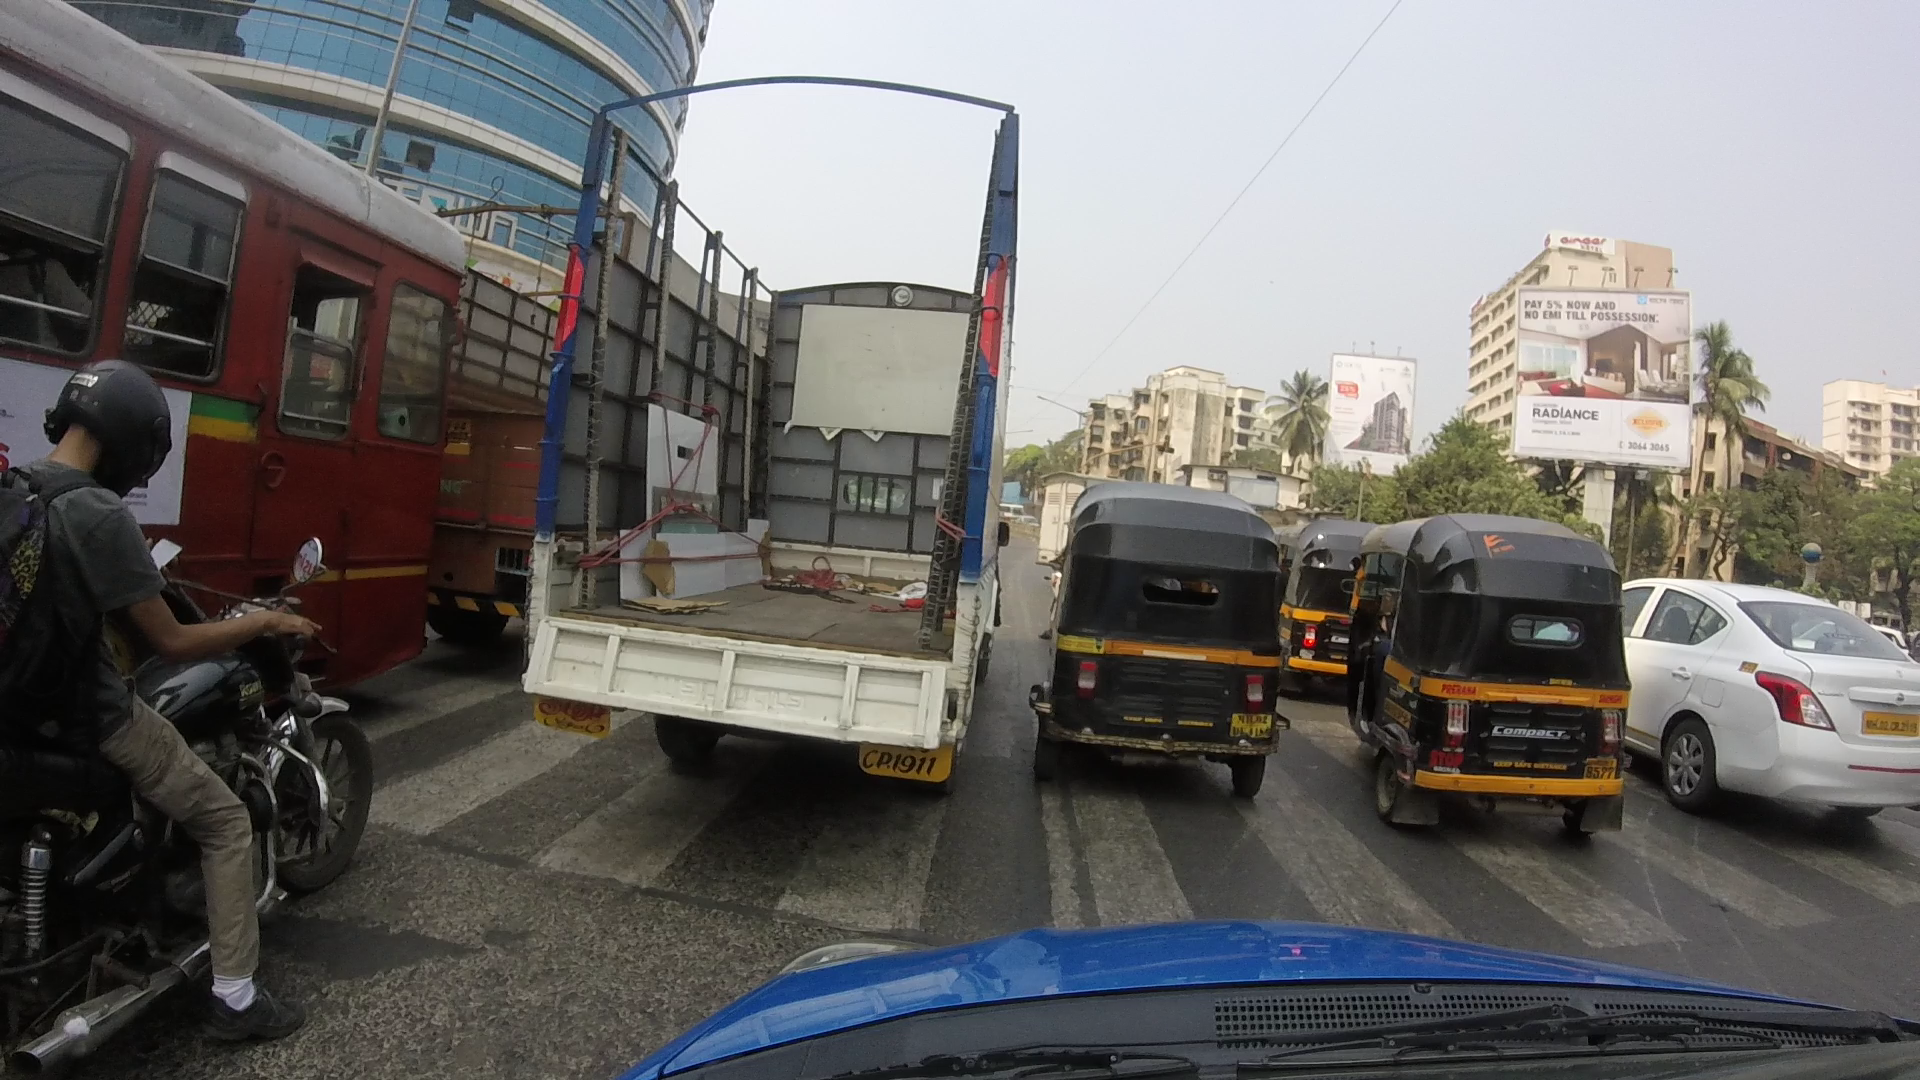bike/scooter: (1, 367, 373, 1080)
bus: (12, 1, 462, 684)
car: (1618, 562, 1920, 841)
rickshaw: (1342, 522, 1658, 845), (1042, 465, 1298, 828), (1275, 488, 1449, 690)
truck: (521, 61, 1039, 810)
